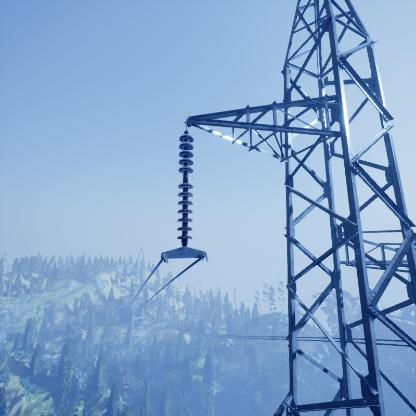insulator: (174, 132, 196, 245)
